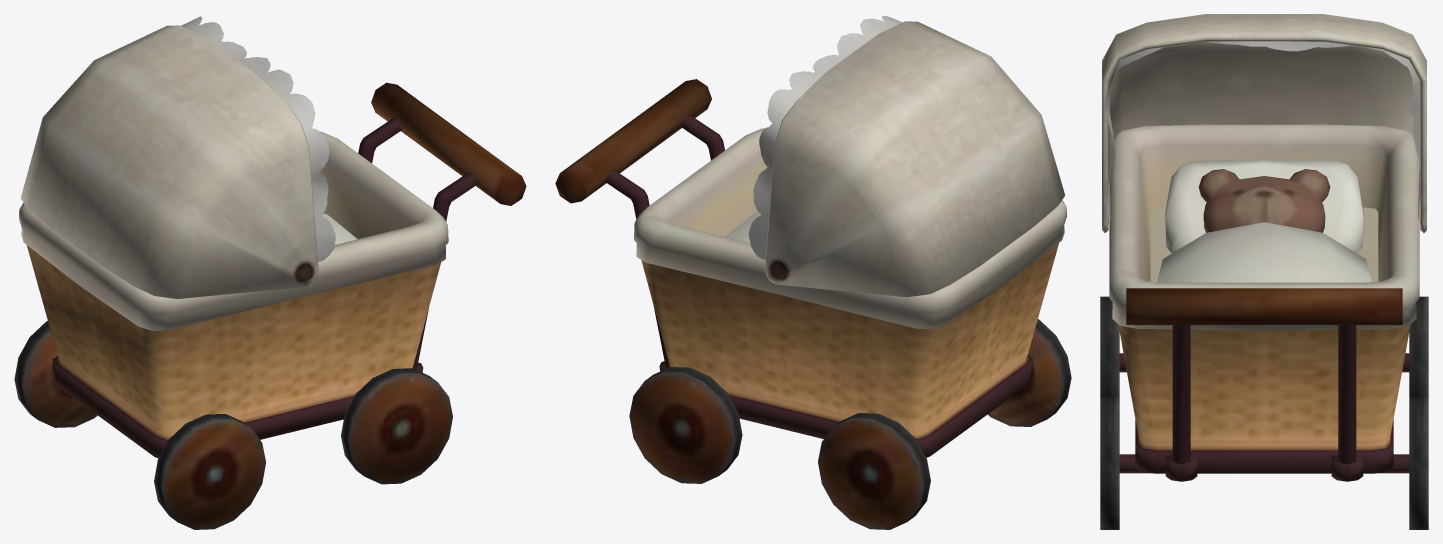
3 renders of one model, left to right at view 1: azimuth 30°, elevation 25°; view 2: azimuth 150°, elevation 25°; view 3: azimuth 270°, elevation 25°, orthographic. The views are drawn at different scales.
Bounding box in the file's own units: 9.42 × 9.32 × 6.23.
Materials: 1 (1 with a texture image).
